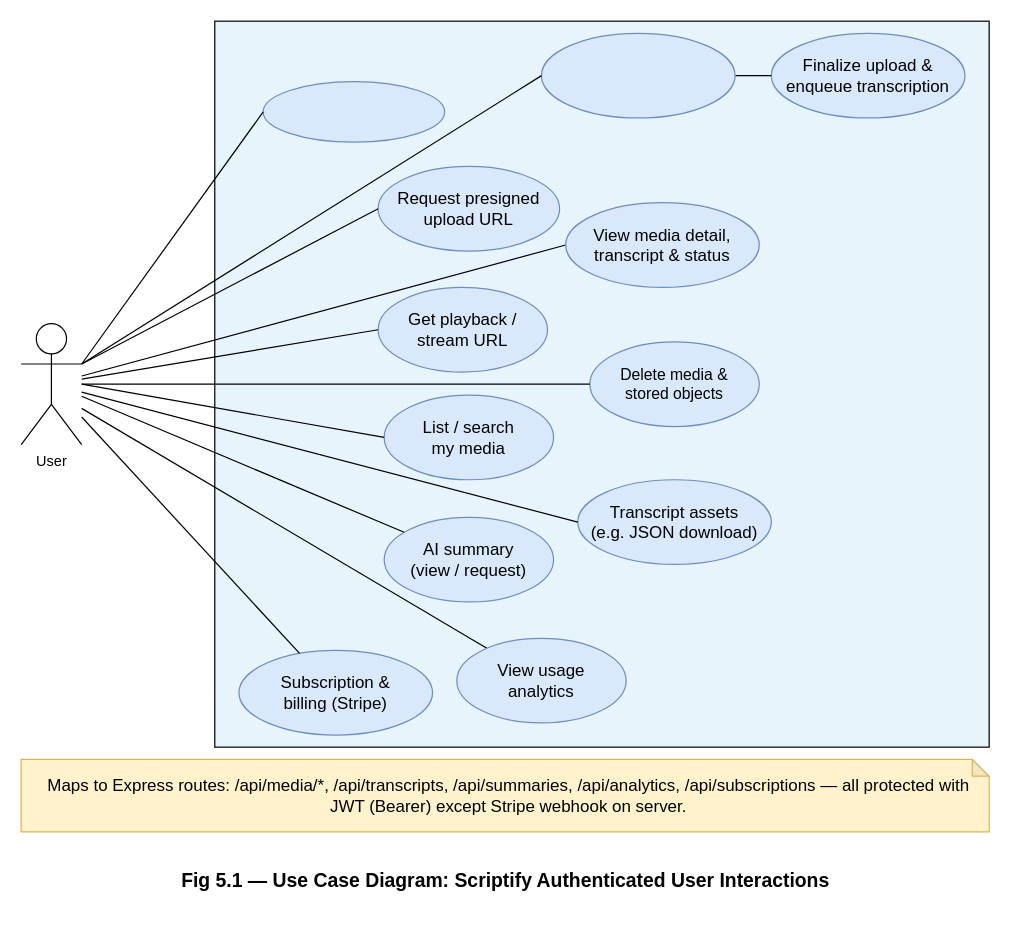
Image size: 1010x926. Some labels were removed from this diagram. The centre of each missing label's shape, as x and y in pixels:
Login / Register: pixel 353 111
Upload Media: pixel 637 75
